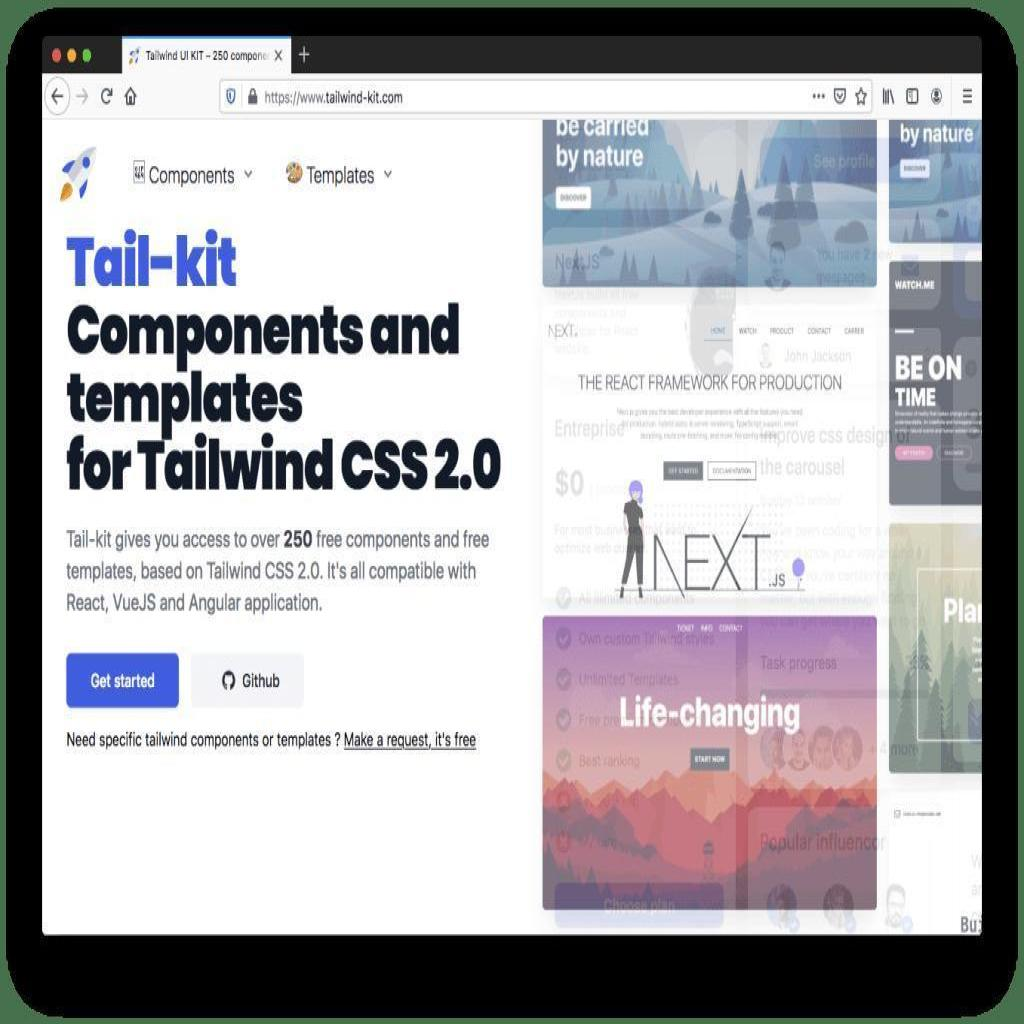button: (67, 651, 180, 710), (192, 654, 304, 708)
icon: (71, 84, 91, 109), (100, 81, 115, 109), (122, 85, 139, 108), (853, 84, 868, 109), (245, 84, 260, 109), (49, 84, 65, 105), (881, 85, 895, 108), (905, 86, 920, 106), (930, 85, 944, 105), (381, 163, 394, 183), (834, 85, 847, 105), (961, 86, 974, 106), (241, 165, 254, 181), (811, 90, 827, 102)
label: (150, 162, 238, 187), (306, 160, 377, 189)
